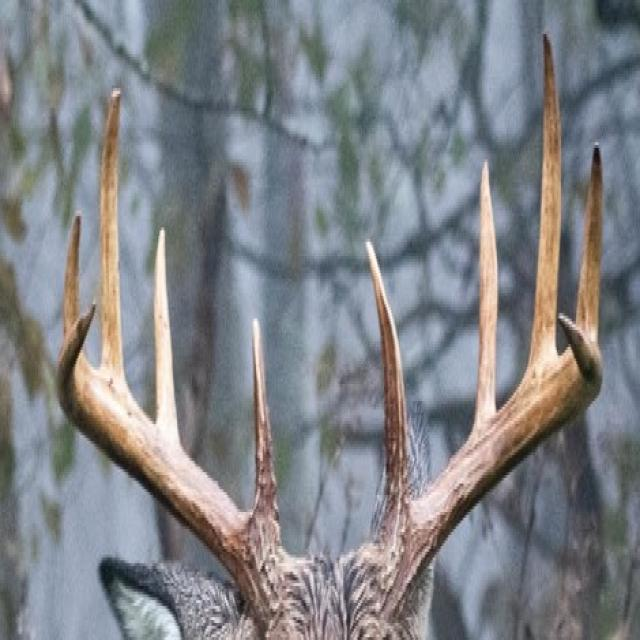L-F: (374, 312, 603, 619)
L-G1: (365, 237, 410, 526)
L-G2: (471, 156, 498, 435)
L-G3: (525, 32, 562, 375)
R-F: (56, 303, 291, 634)
R-G1: (252, 319, 281, 542)
R-G2: (154, 226, 180, 444)
R-G3: (99, 85, 124, 380)
